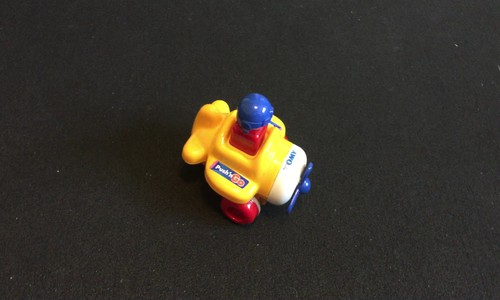toy: (177, 92, 318, 227)
